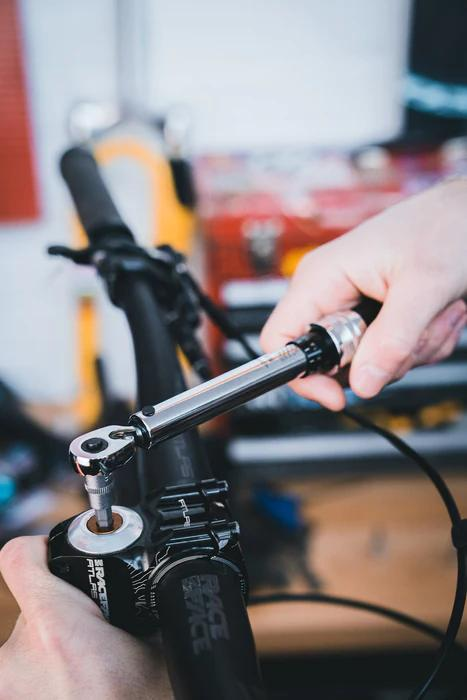Tool: (68, 422, 147, 475)
